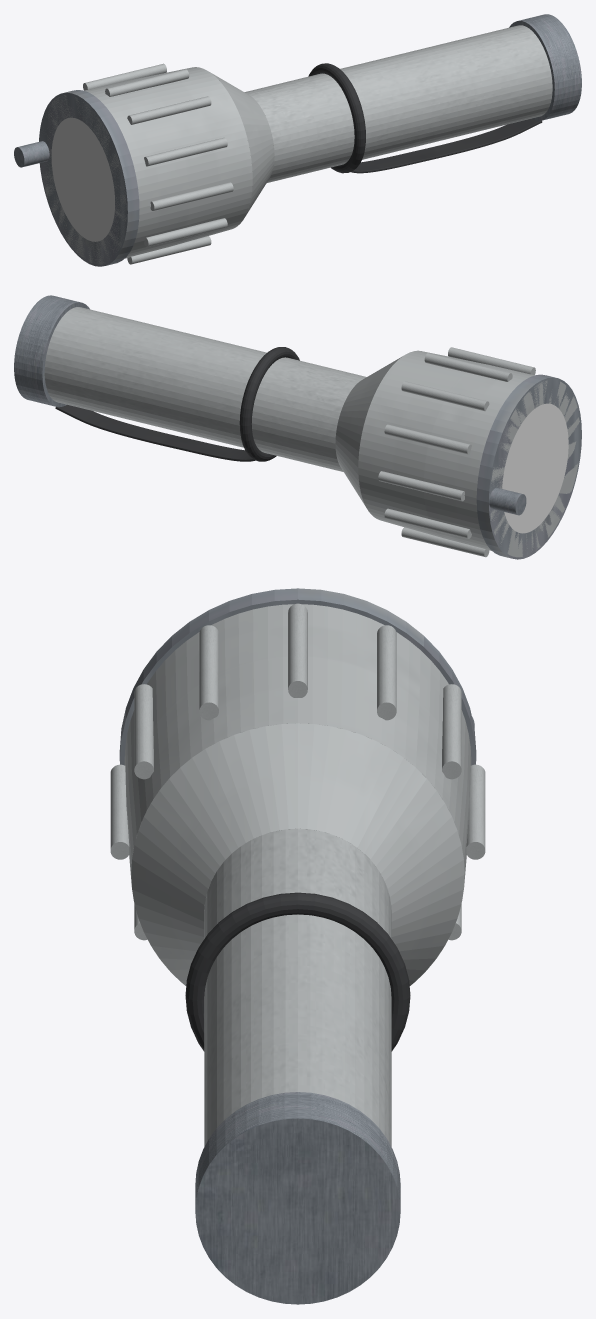
File: Technology_Flashlight__1110.glb
The picture shows the model from 3 angles, top to bottom: view 1: azimuth 30°, elevation 25°; view 2: azimuth 150°, elevation 25°; view 3: azimuth 270°, elevation 25°; orthographic projection. The views are drawn at different scales.
Parts seen in each view (by area): view 1: body::barrel_shell, focus_head::head_shell, focus_head::front_bezel_ring, focus_head::lens_disc, body::tail_cap, body::shoulder_shell, body::pocket_clip, body::clip_mount, focus_head::head_rib_4, focus_head::head_rib_5, focus_head::head_rib_6, focus_head::head_rib_7 (+4 smaller); view 2: body::barrel_shell, focus_head::head_shell, focus_head::front_bezel_ring, focus_head::lens_disc, body::tail_cap, body::shoulder_shell, body::pocket_clip, body::clip_mount, focus_head::head_rib_2, focus_head::head_rib_1, focus_head::head_rib_0, focus_head::head_rib_11 (+4 smaller); view 3: body::shoulder_shell, body::barrel_shell, body::tail_cap, focus_head::head_shell, body::clip_mount, focus_head::front_bezel_ring, focus_head::head_rib_2, focus_head::head_rib_4, focus_head::head_rib_3, focus_head::head_rib_1, focus_head::head_rib_5, focus_head::head_rib_0 (+1 smaller).
Boxes of the visible parts, left/top/right/bottom form: body::barrel_shell: left=244, top=25, right=552, bottom=182; focus_head::head_shell: left=42, top=67, right=252, bottom=264; focus_head::front_bezel_ring: left=39, top=90, right=139, bottom=266; focus_head::lens_disc: left=51, top=117, right=114, bottom=241; body::tail_cap: left=509, top=14, right=581, bottom=120; body::shoulder_shell: left=195, top=67, right=274, bottom=215; body::pocket_clip: left=351, top=119, right=542, bottom=173; body::clip_mount: left=308, top=63, right=365, bottom=173; focus_head::head_rib_4: left=127, top=96, right=211, bottom=124; focus_head::head_rib_5: left=144, top=137, right=227, bottom=166; focus_head::head_rib_6: left=150, top=182, right=233, bottom=210; focus_head::head_rib_7: left=144, top=218, right=227, bottom=246; body::barrel_shell: left=44, top=307, right=366, bottom=471; focus_head::head_shell: left=358, top=350, right=579, bottom=557; focus_head::front_bezel_ring: left=476, top=374, right=581, bottom=559; focus_head::lens_disc: left=502, top=403, right=568, bottom=533; body::tail_cap: left=14, top=295, right=89, bottom=407; body::shoulder_shell: left=335, top=350, right=418, bottom=506; body::pocket_clip: left=55, top=404, right=255, bottom=461; body::clip_mount: left=239, top=347, right=299, bottom=461; focus_head::head_rib_2: left=401, top=381, right=489, bottom=411; focus_head::head_rib_1: left=384, top=424, right=471, bottom=454; focus_head::head_rib_0: left=378, top=471, right=464, bottom=501; focus_head::head_rib_11: left=384, top=508, right=471, bottom=538; body::shoulder_shell: left=131, top=723, right=464, bottom=985; body::barrel_shell: left=204, top=828, right=391, bottom=1146; body::tail_cap: left=195, top=1092, right=400, bottom=1304; focus_head::head_shell: left=124, top=604, right=471, bottom=977; body::clip_mount: left=185, top=892, right=410, bottom=1051; focus_head::front_bezel_ring: left=119, top=588, right=476, bottom=765; focus_head::head_rib_2: left=377, top=625, right=396, bottom=720; focus_head::head_rib_4: left=199, top=625, right=218, bottom=720; focus_head::head_rib_3: left=288, top=603, right=307, bottom=697; focus_head::head_rib_1: left=442, top=684, right=461, bottom=779; focus_head::head_rib_5: left=134, top=684, right=153, bottom=779; focus_head::head_rib_0: left=466, top=764, right=485, bottom=859.
Size of the model in its own units: 0.2571 by 0.0838 by 0.0838.
6 materials, 5 textured.
